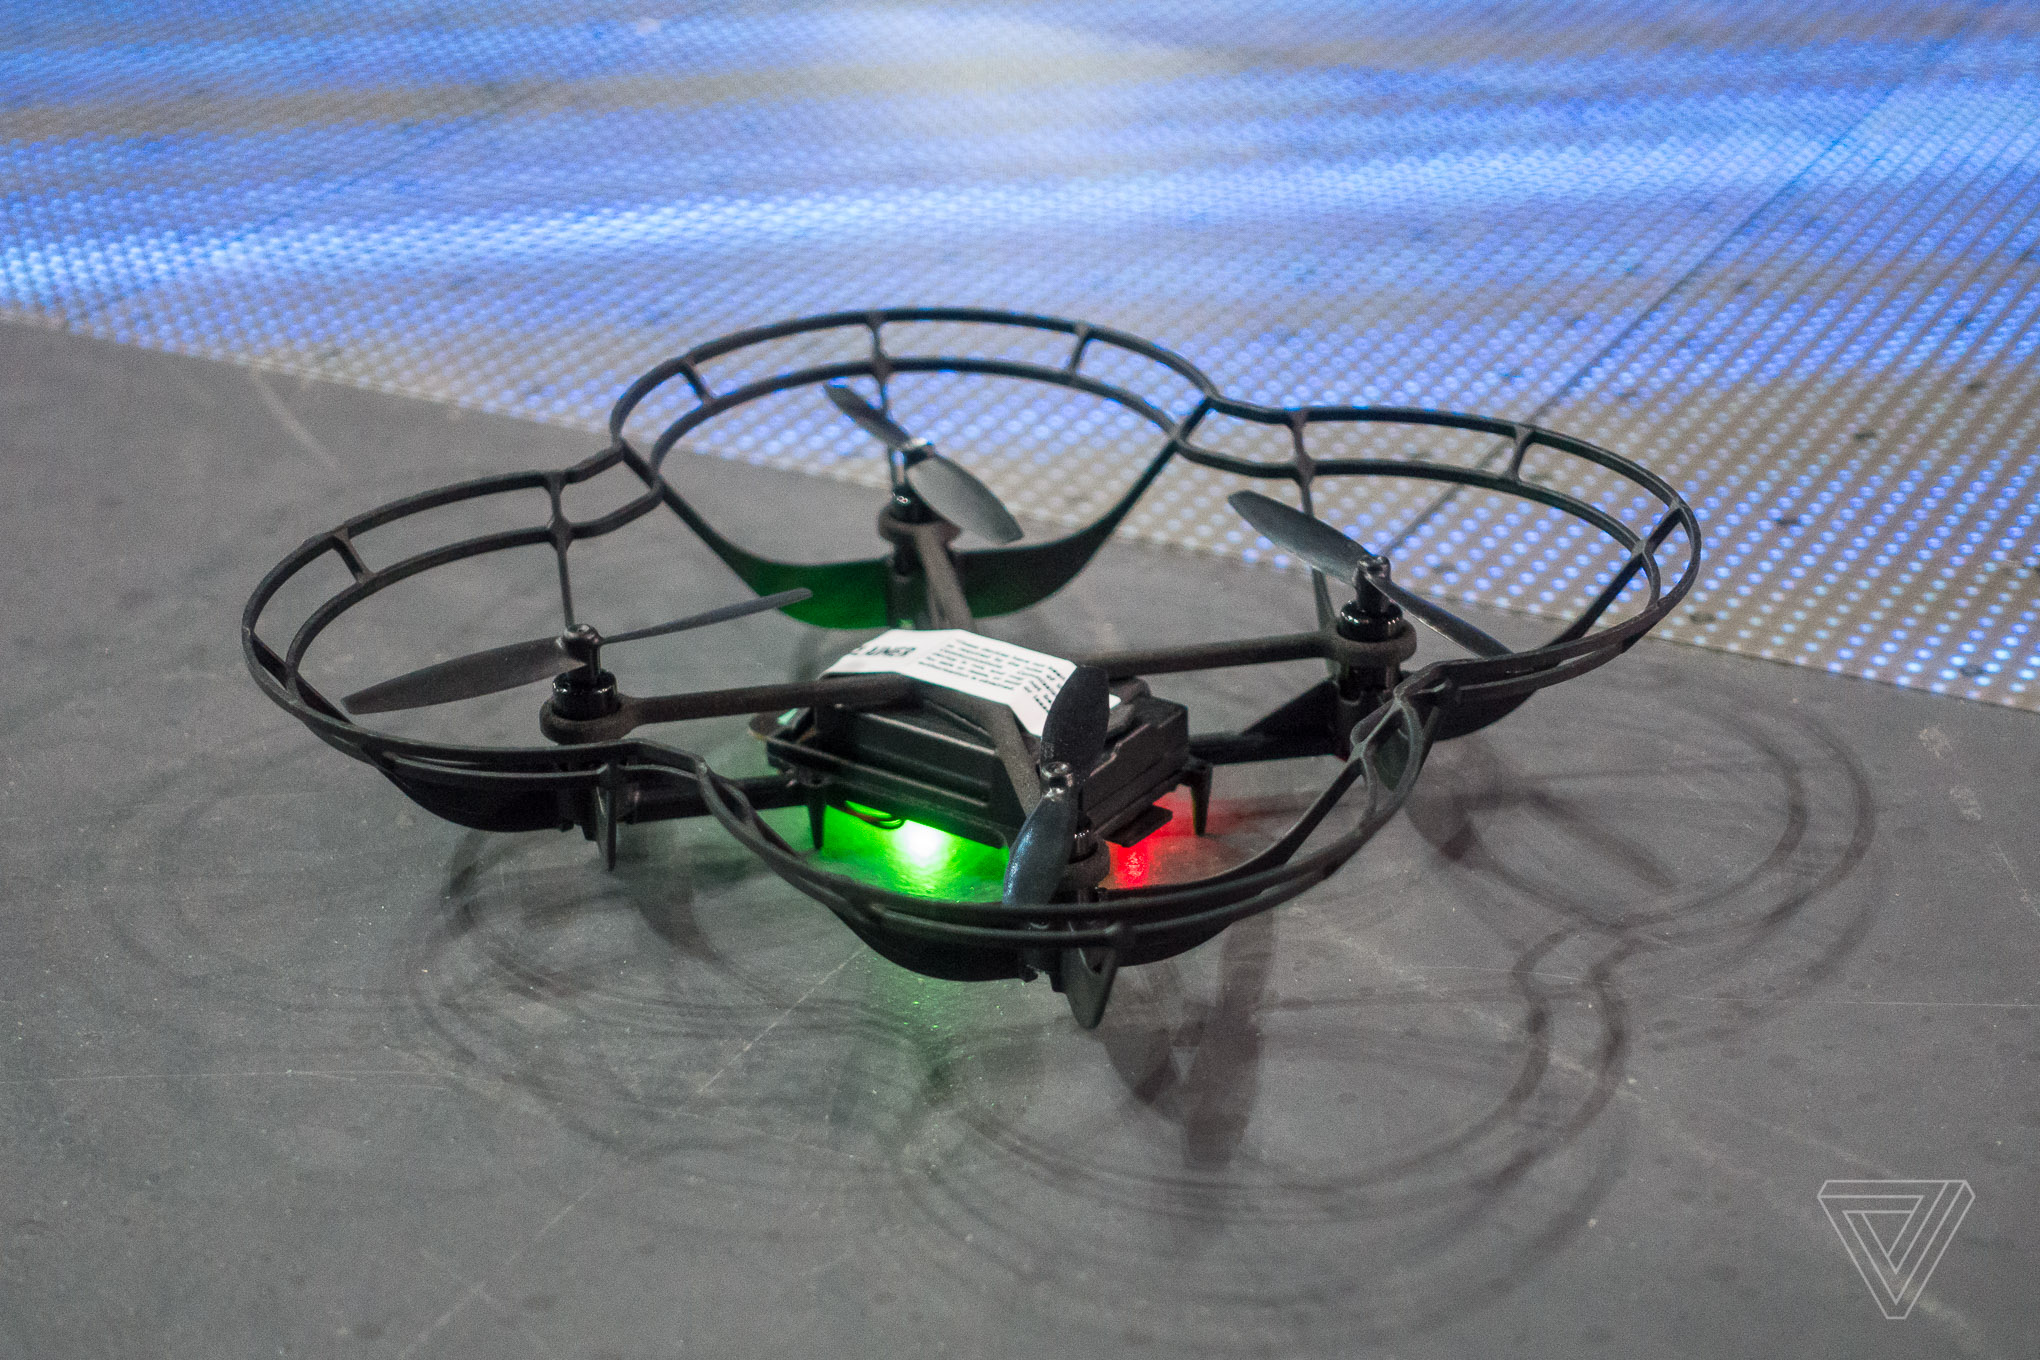drone: (235, 297, 1709, 1040)
shadow_of_drone: (407, 660, 1890, 1231)
